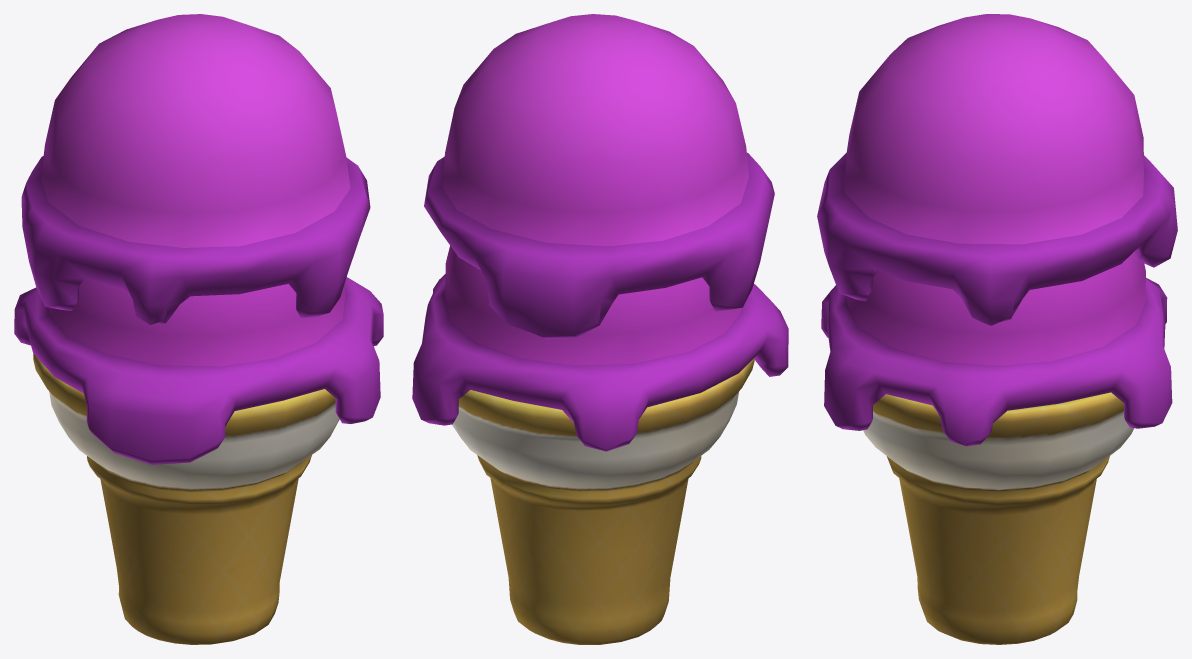
Rendered from model_IceCreamCone.fbx.
3 renders of one model, left to right at view 1: azimuth 30°, elevation 25°; view 2: azimuth 150°, elevation 25°; view 3: azimuth 270°, elevation 25°, orthographic.
Parts seen in each view (by area): view 1: model_IceCreamCone; view 2: model_IceCreamCone; view 3: model_IceCreamCone.
Boxes of the visible parts, bbox=[...] form: model_IceCreamCone: bbox=[14, 14, 383, 644]; model_IceCreamCone: bbox=[412, 14, 788, 644]; model_IceCreamCone: bbox=[817, 14, 1177, 644].
Size of the model in its own units: 44.7 by 76.2 by 42.62.
